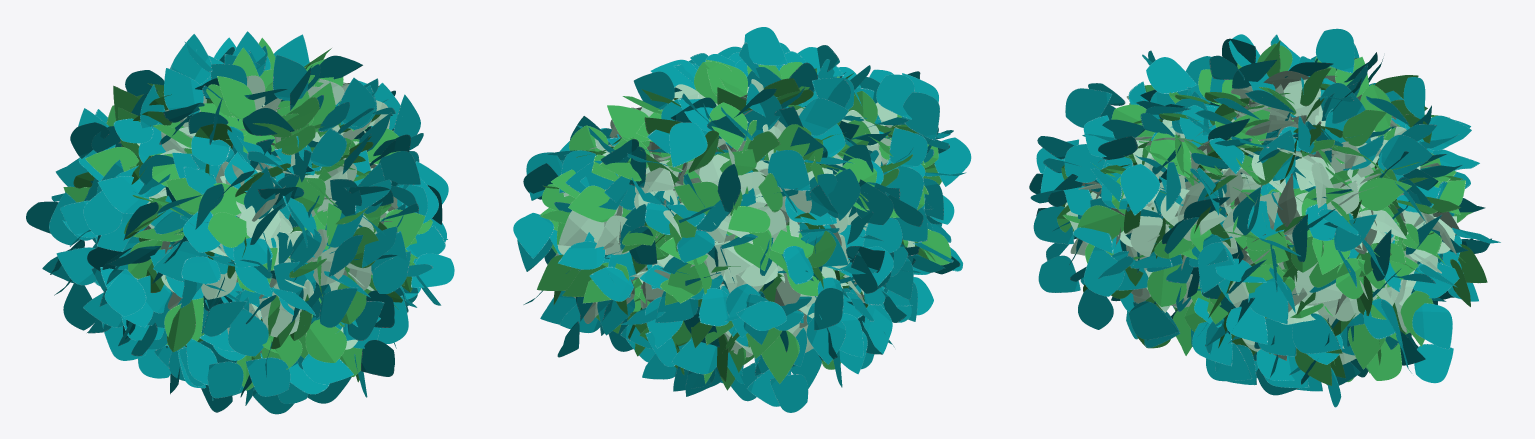
File: bush01.fbx
3 views of the same model, side by side, from view 1: azimuth 30°, elevation 25°; view 2: azimuth 150°, elevation 25°; view 3: azimuth 270°, elevation 25° (orthographic). The views are drawn at different scales.
Visible parts, largest first — view 1: bush01; view 2: bush01; view 3: bush01.
Part boxes in pixels (x1,y1,x2,y2): bush01: [26, 31, 454, 414]; bush01: [513, 27, 971, 412]; bush01: [1029, 28, 1500, 407].
Bounding box in the file's own units: 279 × 244 × 315.
